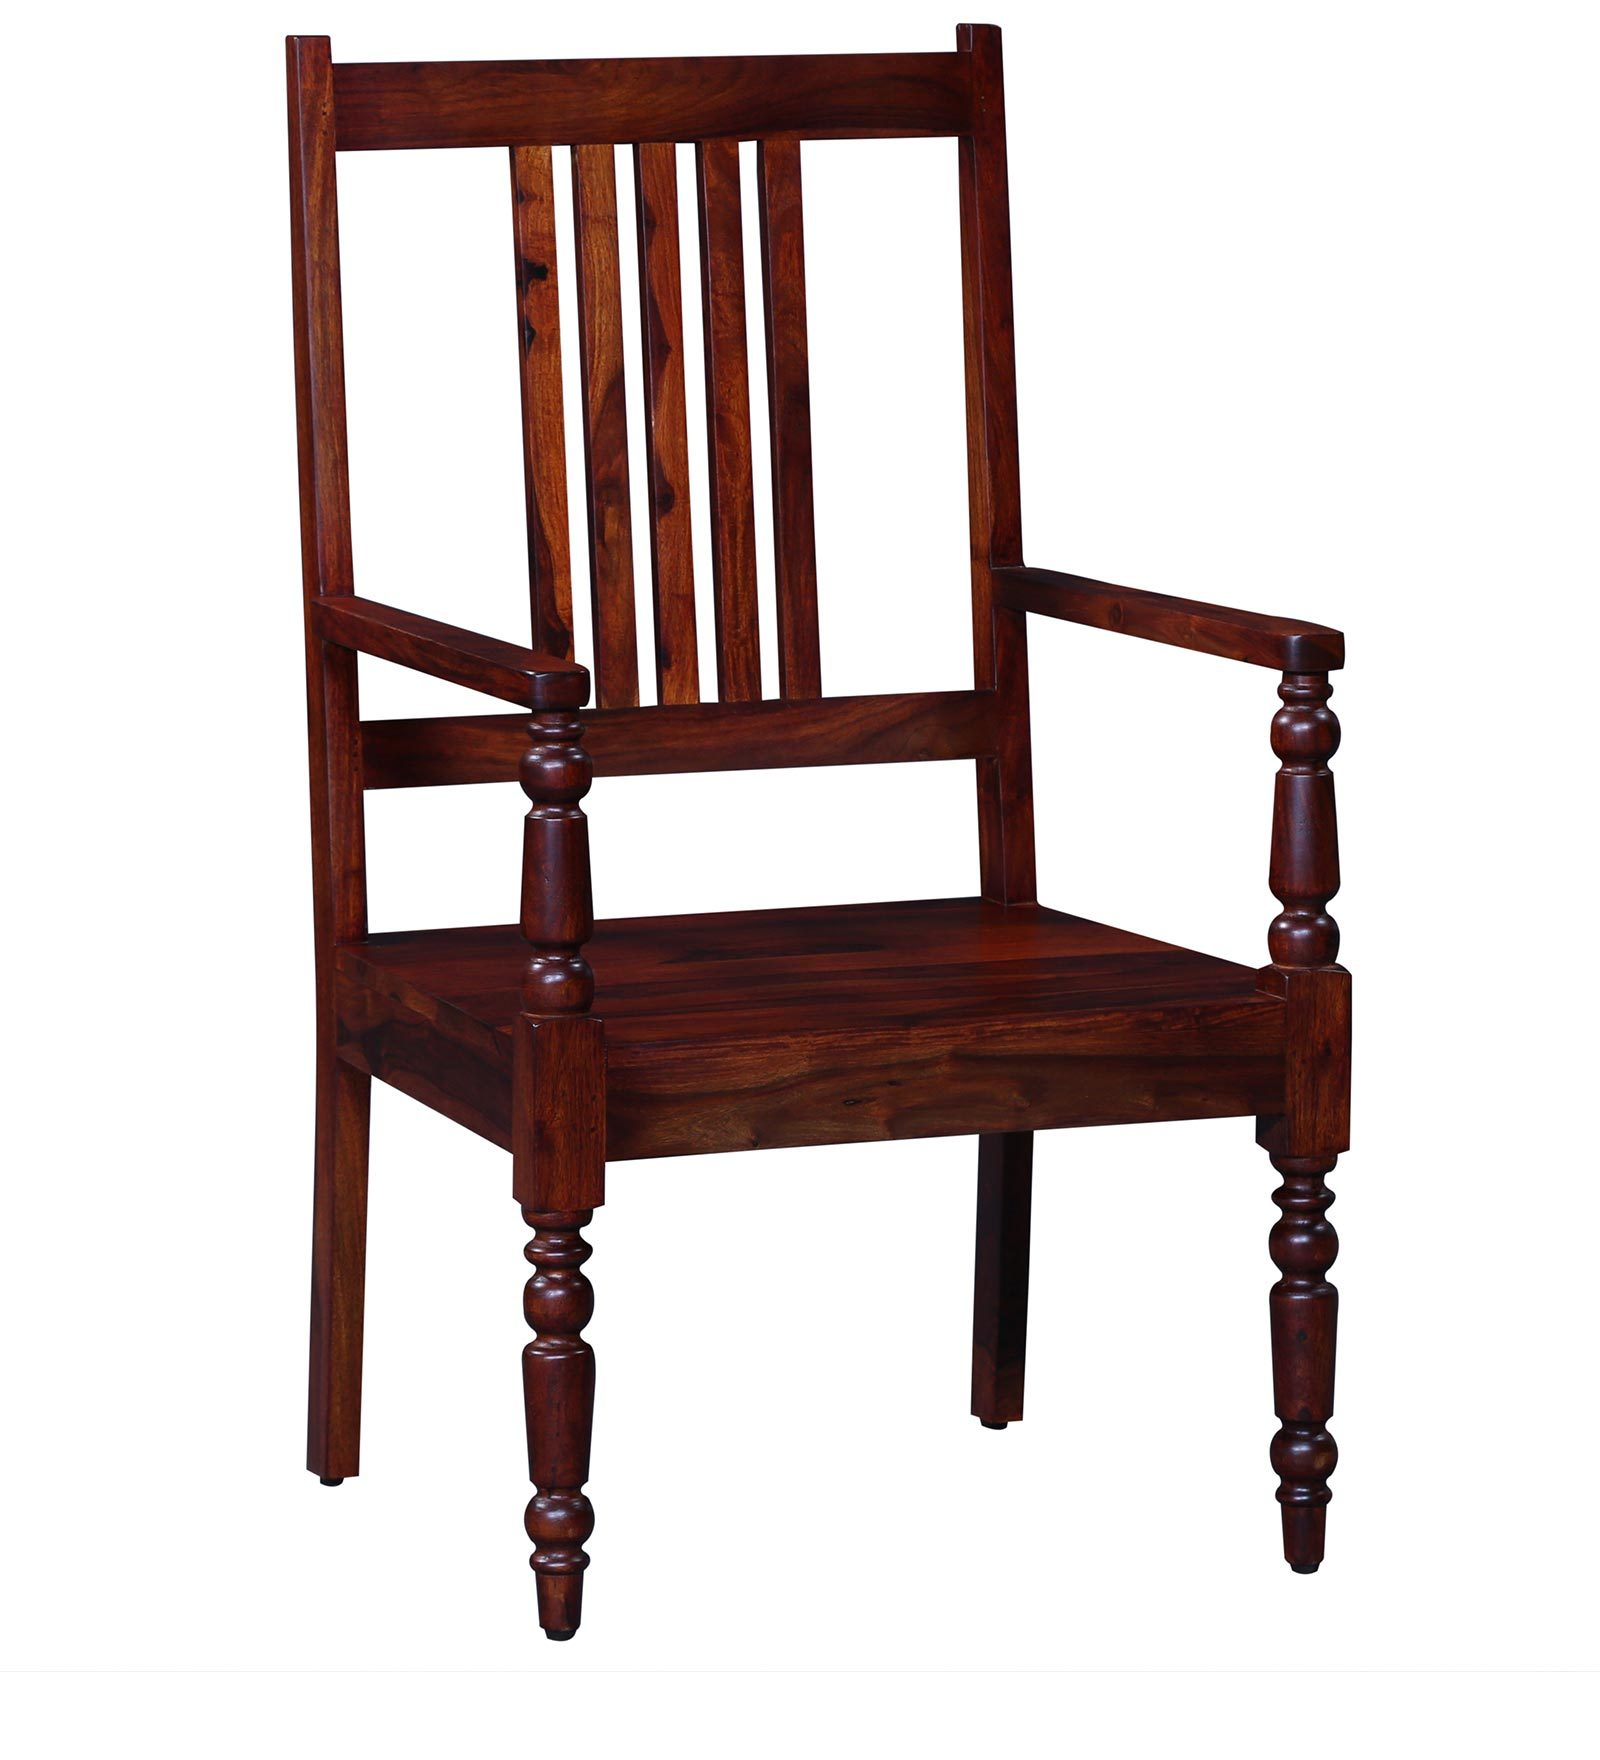Harleston Arm Chair in Honey Oak Finish by Amberville: (233, 23, 1405, 1688)
